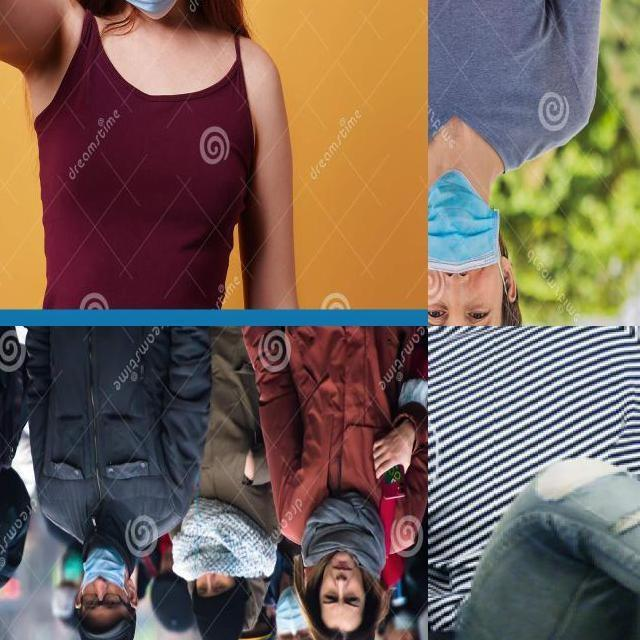hairnet: (424, 169, 501, 296), (76, 548, 123, 601), (393, 611, 420, 639)
no_apron: (373, 424, 420, 481)
